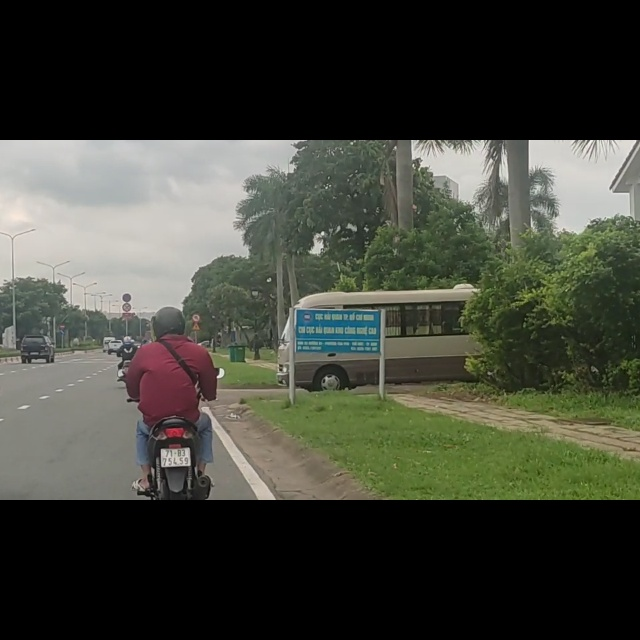bien_nguy_hiem: (192, 307, 201, 325), (122, 290, 132, 306), (191, 326, 201, 340), (123, 271, 131, 288), (59, 326, 66, 337), (59, 337, 66, 347)
